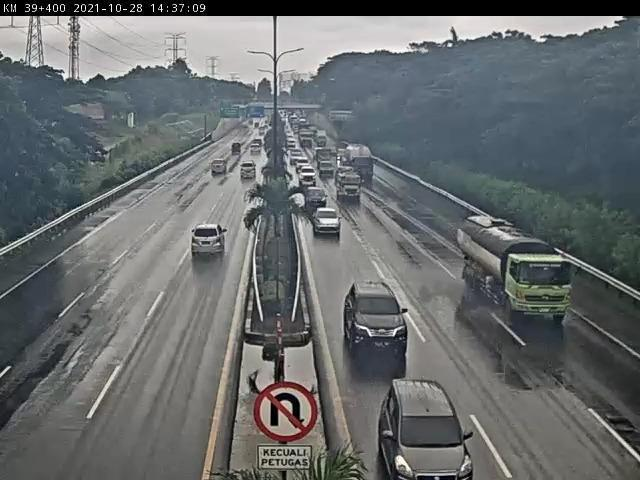car: (373, 372, 480, 480), (340, 277, 415, 359), (189, 221, 230, 258), (308, 205, 347, 239), (304, 186, 330, 209), (299, 165, 320, 187), (240, 160, 259, 182), (295, 157, 313, 175), (211, 159, 229, 176), (320, 162, 336, 180), (231, 140, 245, 156), (249, 145, 263, 158)
truck: (454, 212, 576, 330), (340, 141, 382, 186)
